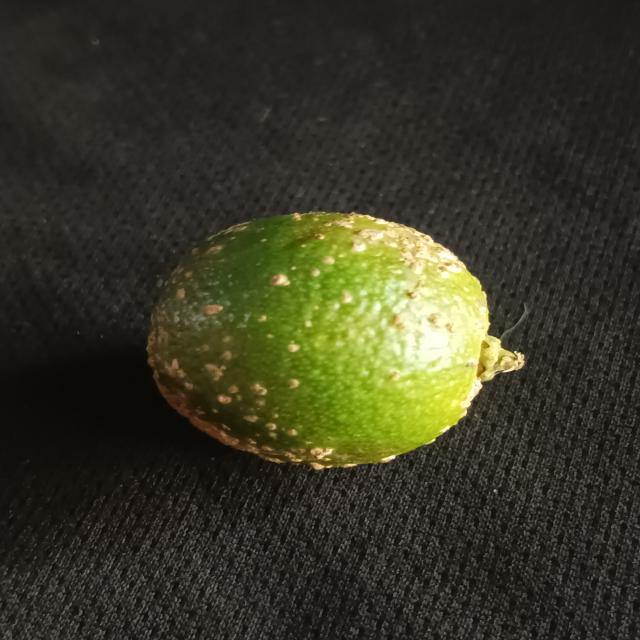scab: (134, 209, 498, 480)
